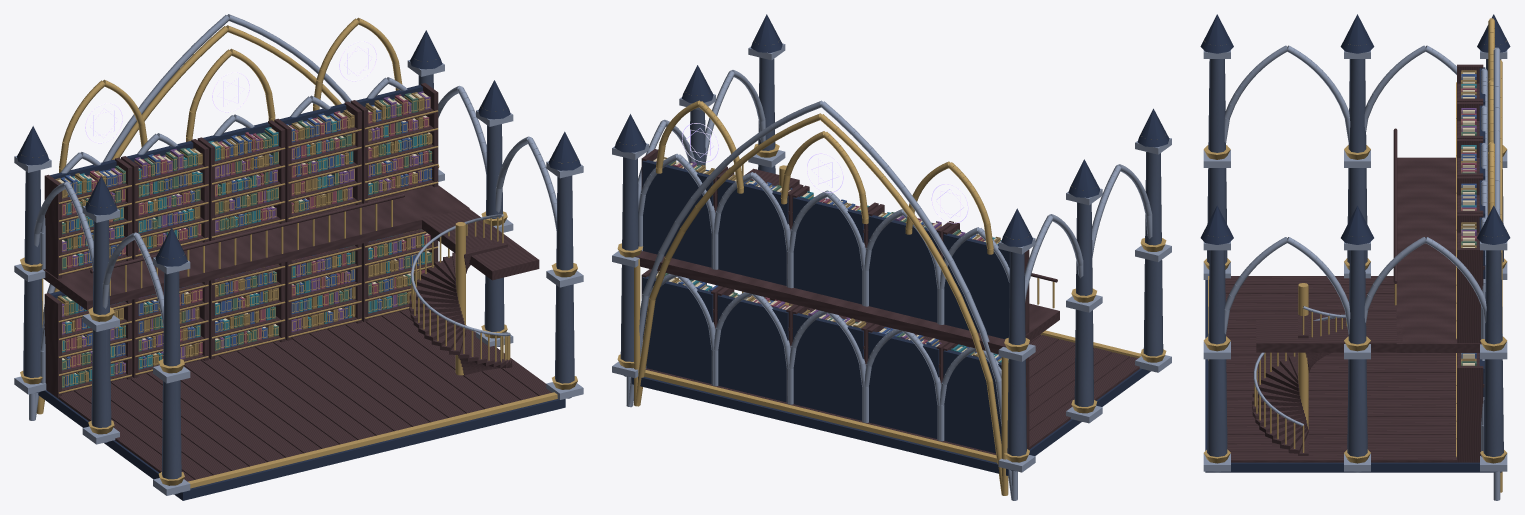
The model's file is archive-library.glb.
3 views of the same model, side by side, from view 1: azimuth 30°, elevation 25°; view 2: azimuth 150°, elevation 25°; view 3: azimuth 270°, elevation 25° (orthographic).
Parts seen in each view (by area): view 1: GrandLibrary_wood, GrandLibrary_gold, GrandLibrary_stone, GrandLibrary_edge, GrandLibrary_dark, GrandLibrary_blue, GrandLibrary_leather, GrandLibrary_green, GrandLibrary_teal, GrandLibrary_red, GrandLibrary_violet, SpiralStaircase_wood (+4 smaller); view 2: GrandLibrary_dark, GrandLibrary_edge, GrandLibrary_wood, GrandLibrary_gold, GrandLibrary_stone, GrandLibrary_rune, GrandLibrary_paper; view 3: GrandLibrary_wood, GrandLibrary_stone, GrandLibrary_edge, GrandLibrary_dark, GrandLibrary_gold, SpiralStaircase_wood, SpiralStaircase_gold, GrandLibrary_paper, SpiralStaircase_edge, GrandLibrary_blue, GrandLibrary_leather.
Part boxes in pixels (<box>): GrandLibrary_wood: <box>43,83,551,481</box>; GrandLibrary_gold: <box>20,17,577,488</box>; GrandLibrary_stone: <box>23,74,574,494</box>; GrandLibrary_edge: <box>14,14,583,495</box>; GrandLibrary_dark: <box>17,30,580,500</box>; GrandLibrary_blue: <box>60,105,431,387</box>; GrandLibrary_leather: <box>55,92,431,382</box>; GrandLibrary_green: <box>62,93,431,388</box>; GrandLibrary_teal: <box>62,116,424,386</box>; GrandLibrary_red: <box>62,94,430,367</box>; GrandLibrary_violet: <box>62,91,430,375</box>; SpiralStaircase_wood: <box>409,240,512,375</box>; GrandLibrary_dark: <box>614,14,1169,475</box>; GrandLibrary_edge: <box>612,43,1171,500</box>; GrandLibrary_wood: <box>635,149,1139,454</box>; GrandLibrary_gold: <box>617,42,1166,495</box>; GrandLibrary_stone: <box>620,57,1163,471</box>; GrandLibrary_rune: <box>682,123,968,223</box>; GrandLibrary_paper: <box>653,158,1008,361</box>; GrandLibrary_wood: <box>1225,64,1488,462</box>; GrandLibrary_stone: <box>1207,59,1503,472</box>; GrandLibrary_edge: <box>1203,45,1507,500</box>; GrandLibrary_dark: <box>1200,14,1510,472</box>; GrandLibrary_gold: <box>1203,18,1507,492</box>; SpiralStaircase_wood: <box>1252,314,1332,455</box>; SpiralStaircase_gold: <box>1254,283,1347,452</box>; GrandLibrary_paper: <box>1462,72,1474,365</box>; SpiralStaircase_edge: <box>1253,306,1345,426</box>; GrandLibrary_blue: <box>1461,74,1476,358</box>; GrandLibrary_leather: <box>1461,70,1476,361</box>.
Size of the model in its own units: 12.14 by 9.82 by 7.74.
Materials: 13 (2 with a texture image).
